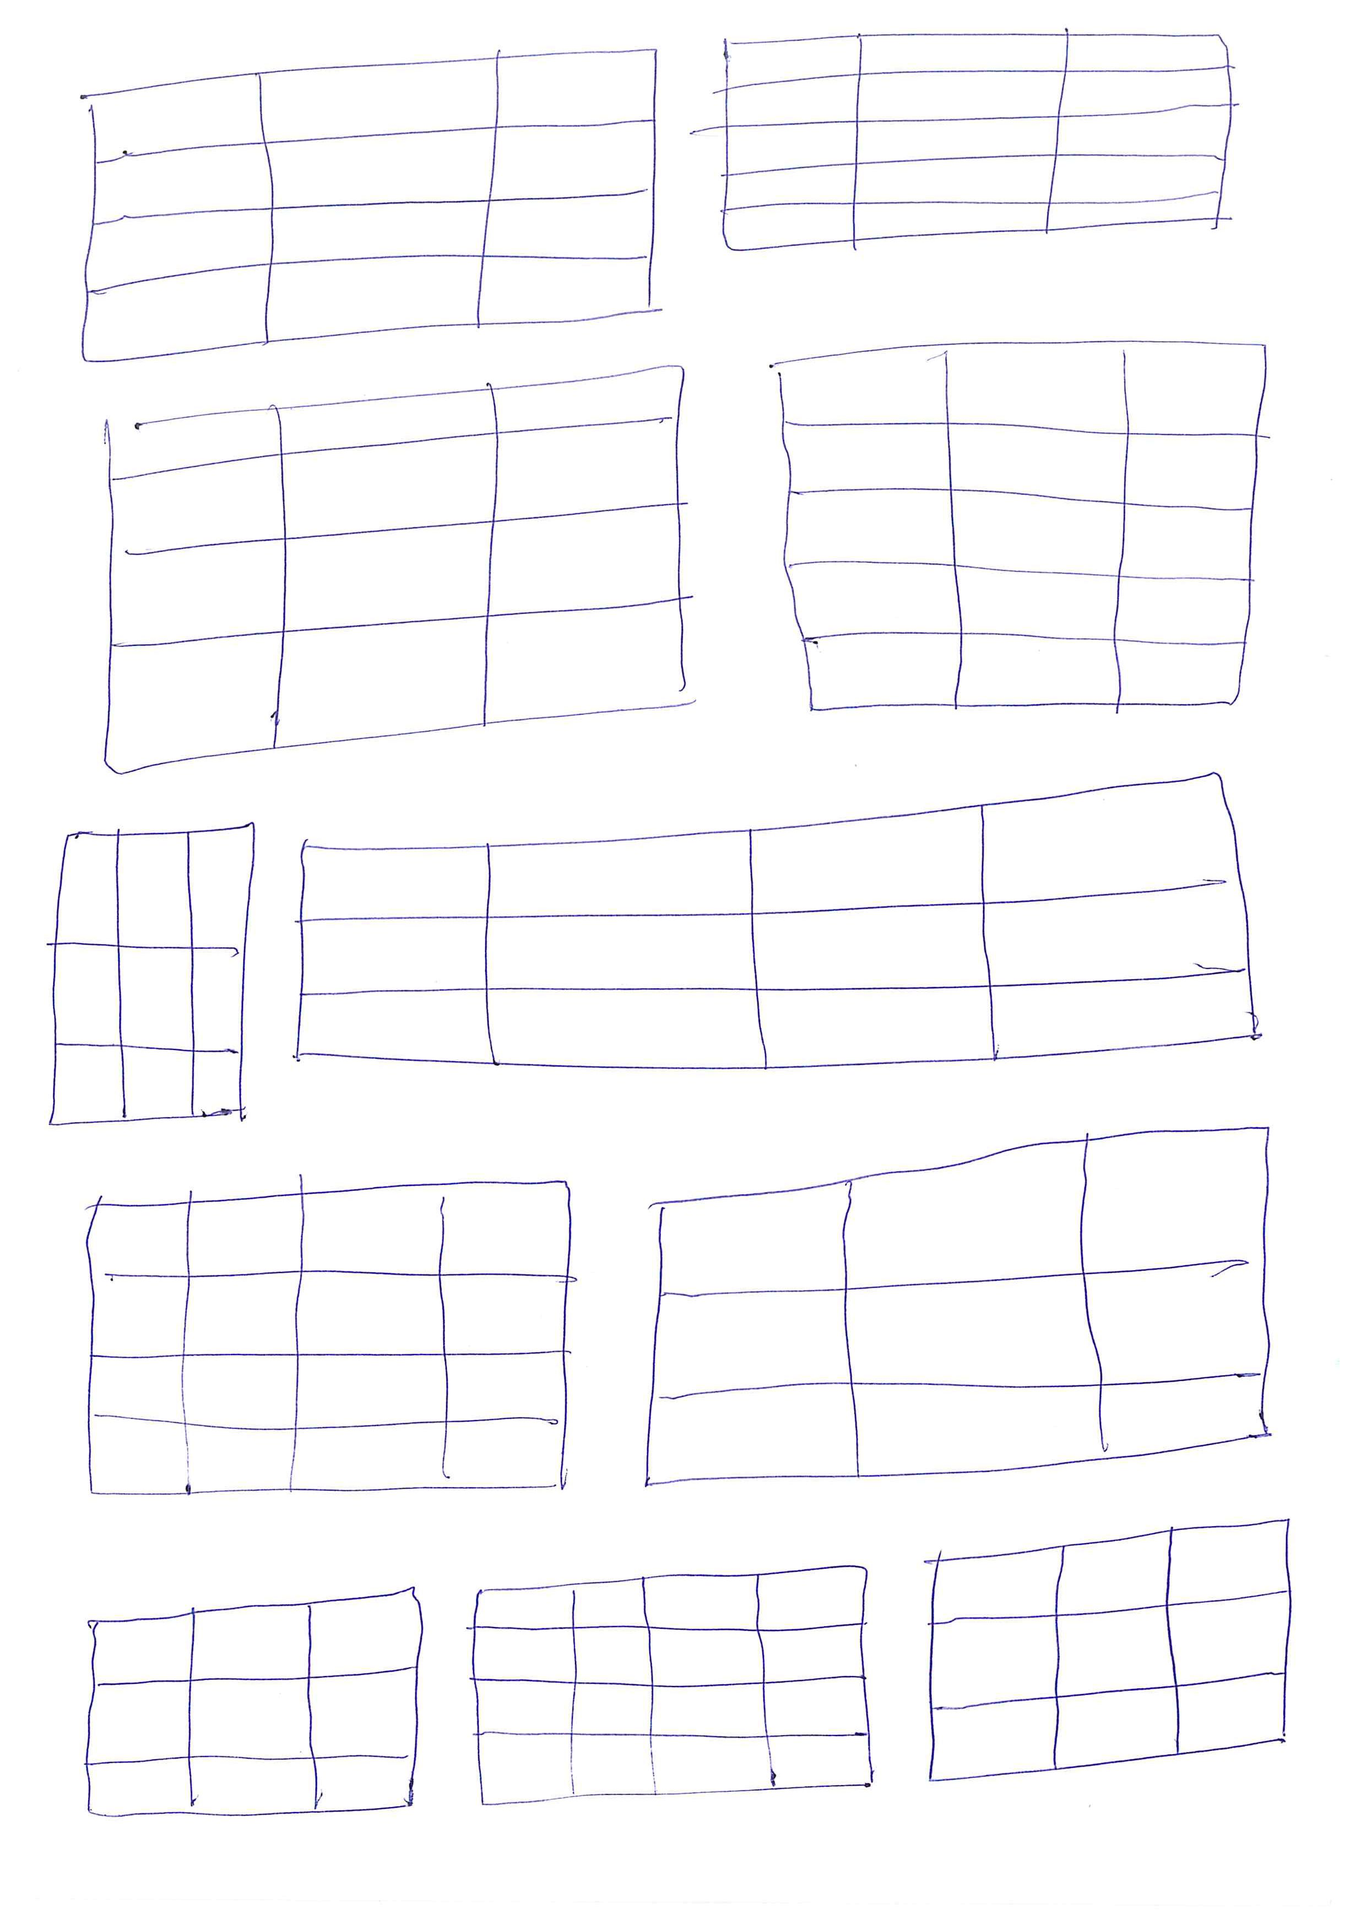Table: (288, 767, 1265, 1079), (95, 359, 695, 779), (633, 1116, 1280, 1487), (772, 330, 1277, 720), (71, 38, 668, 365), (80, 1172, 580, 1507), (707, 24, 1245, 256), (469, 1555, 880, 1816), (924, 1513, 1301, 1788), (80, 1585, 430, 1826), (38, 818, 262, 1138)
